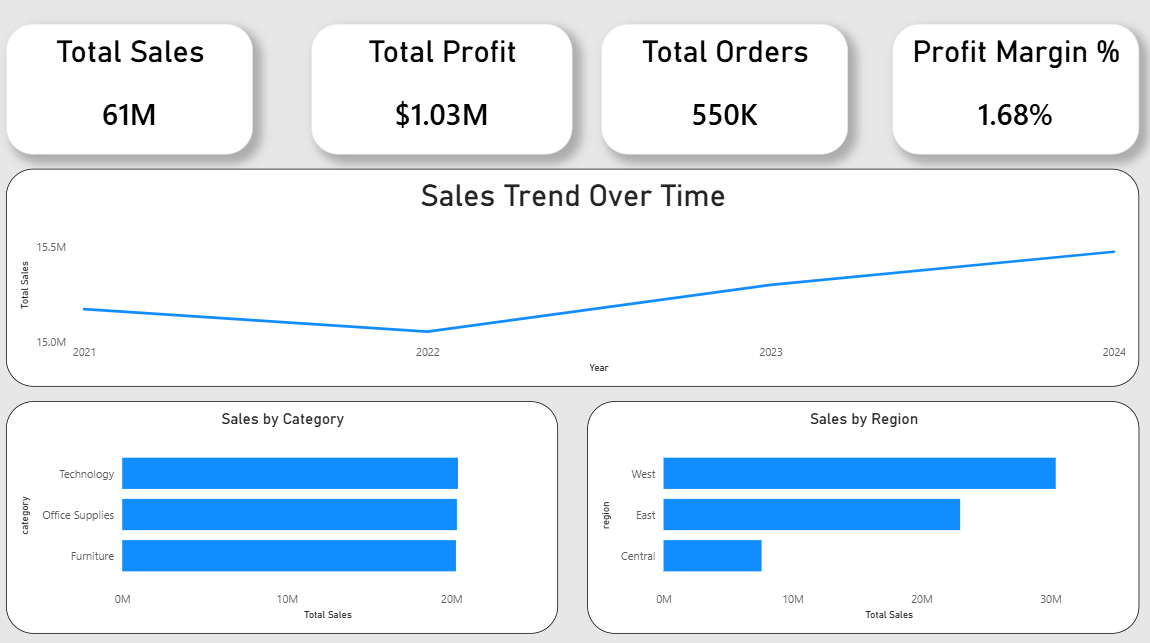

The page's visual inventory and layout, read from the dashboard file:
{"tool":"powerbi","page":{"name":"Executive Overview","canvas":[1280,720],"ordinal":0},"visuals":[{"type":"cardVisual","title":"Total Sales","fields":{"Data":["vw_sales_dashboard.Total Sales"]},"box":[16,16,272,144],"z":0},{"type":"lineChart","title":"Sales Trend Over Time","fields":{"Category":["vw_sales_dashboard.date_id.Variation.Date Hierarchy.Year","vw_sales_dashboard.date_id.Variation.Date Hierarchy.Quarter","vw_sales_dashboard.date_id.Variation.Date Hierarchy.Month","vw_sales_dashboard.date_id.Variation.Date Hierarchy.Day"],"Y":["vw_sales_dashboard.Total Sales"]},"box":[16,192,1248,240],"z":1000},{"type":"clusteredBarChart","title":"Sales by Category","fields":{"Category":["vw_sales_dashboard.category"],"Y":["vw_sales_dashboard.Total Sales"]},"box":[16,448,608,256],"z":2000},{"type":"clusteredBarChart","title":"Sales by Region","fields":{"Category":["vw_sales_dashboard.region"],"Y":["vw_sales_dashboard.Total Sales"]},"box":[656,448,608,256],"z":3000},{"type":"cardVisual","title":"Profit Margin %","fields":{"Data":["vw_sales_dashboard.Profit Margin %"]},"box":[992,16,272,144],"z":4000},{"type":"cardVisual","title":"Total Orders","fields":{"Data":["vw_sales_dashboard.Total Quantity"]},"box":[672,16,272,144],"z":5000},{"type":"cardVisual","title":"Total Profit","fields":{"Data":["vw_sales_dashboard.Total Profit"]},"box":[352,16,288,144],"z":6000}]}

Visuals, with their boxes in screenshot pixels (x1, y1, x2, y2), scaled from the page's 1280x720 canvas onto the 1150x643 screenshot:
"Total Sales" cardVisual: BBox(14, 14, 259, 143)
"Sales Trend Over Time" lineChart: BBox(14, 171, 1136, 386)
"Sales by Category" clusteredBarChart: BBox(14, 400, 561, 629)
"Sales by Region" clusteredBarChart: BBox(589, 400, 1136, 629)
"Profit Margin %" cardVisual: BBox(891, 14, 1136, 143)
"Total Orders" cardVisual: BBox(604, 14, 848, 143)
"Total Profit" cardVisual: BBox(316, 14, 575, 143)
